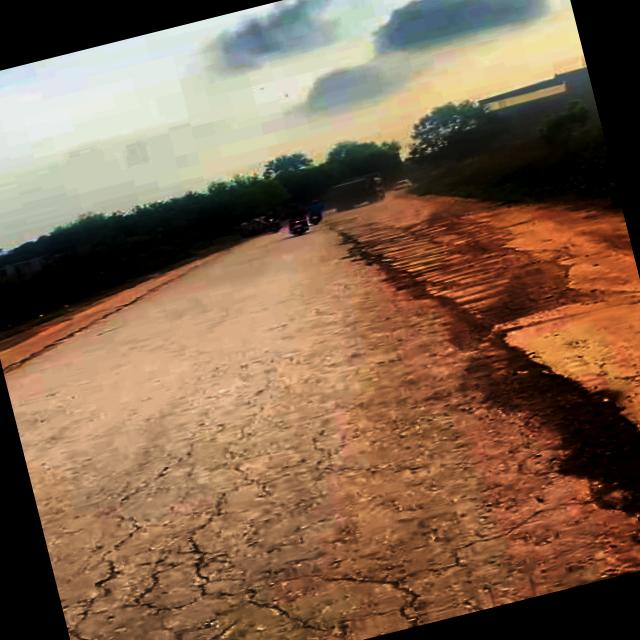pothole: (478, 330, 640, 596)
